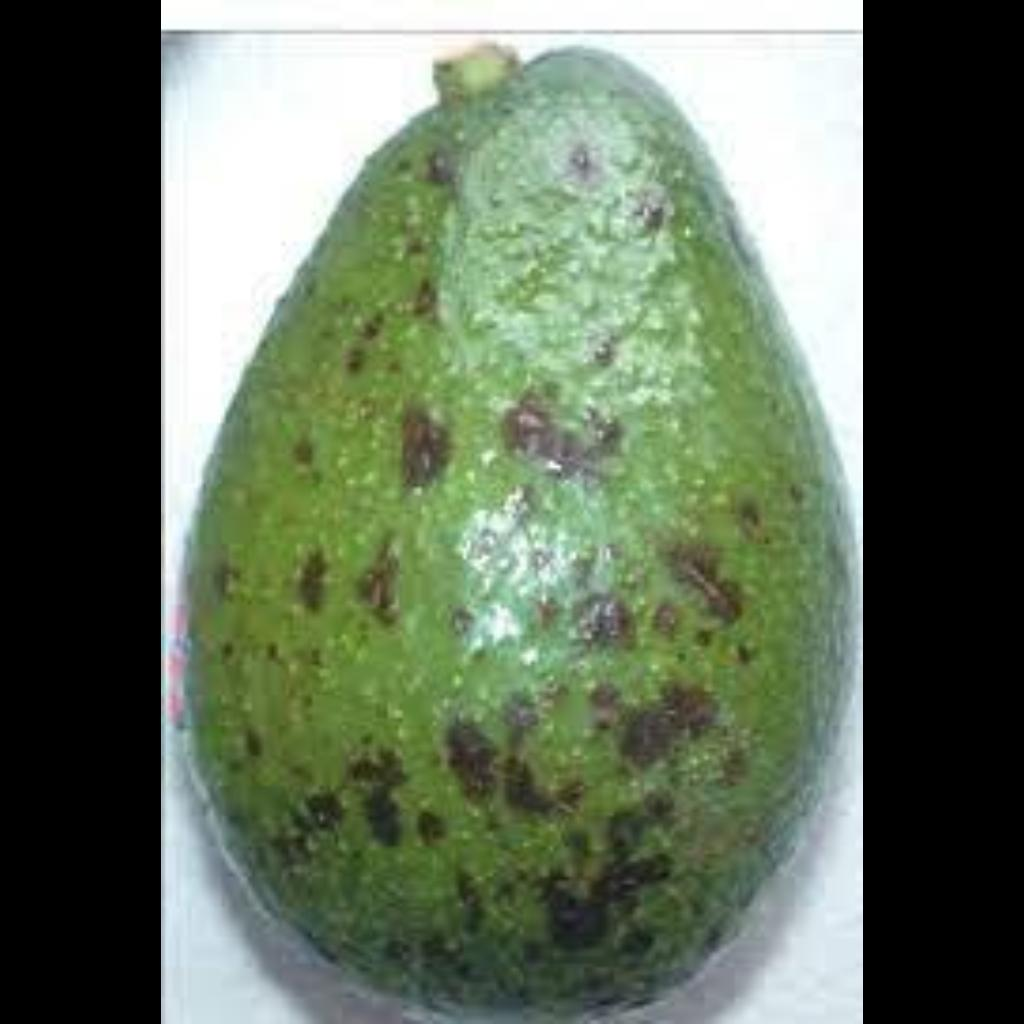cercospora: (255, 126, 803, 950)
